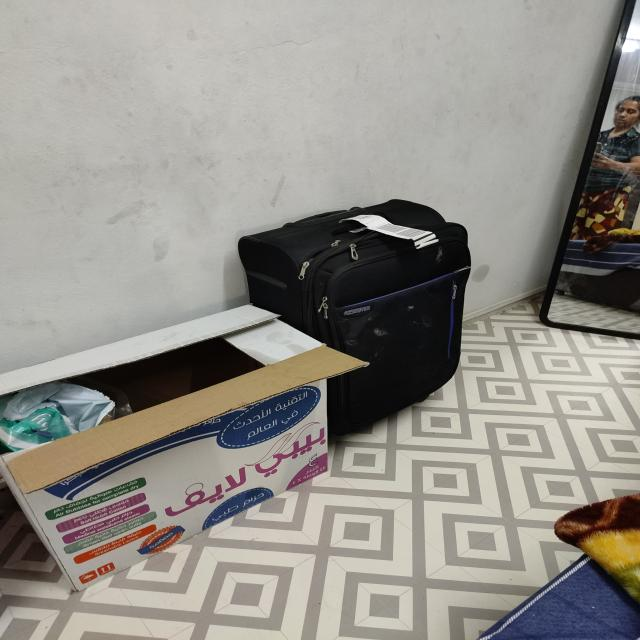suitcaserotation: (232, 194, 474, 441)
